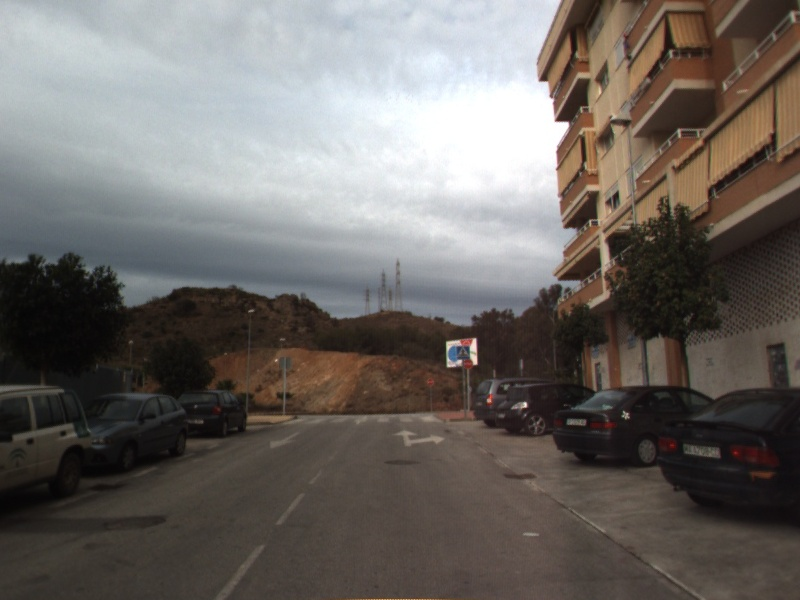STRAIGHT_RIGHT: (390, 427, 448, 449)
